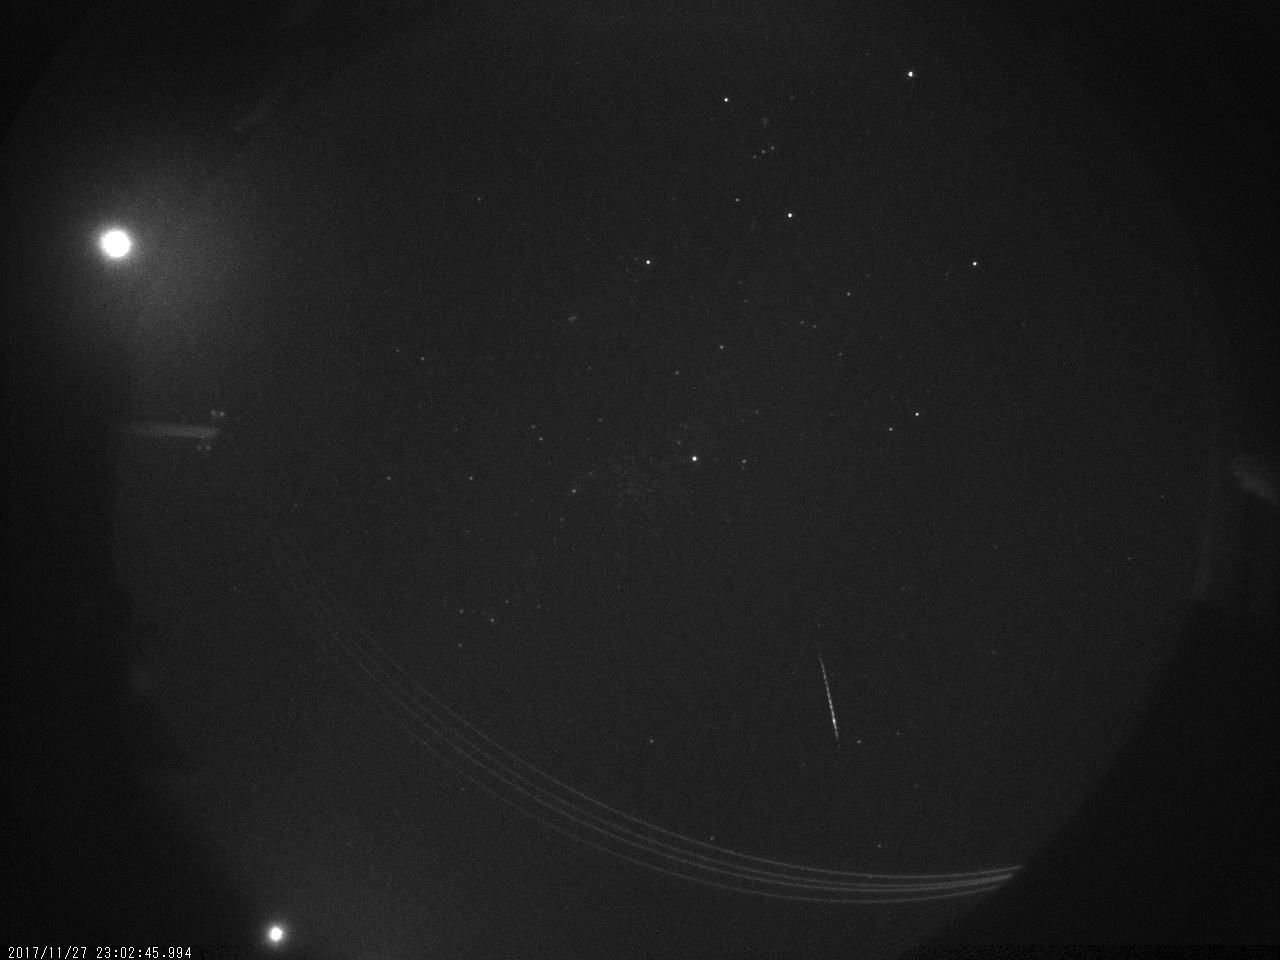meteor: (791, 637, 880, 747)
